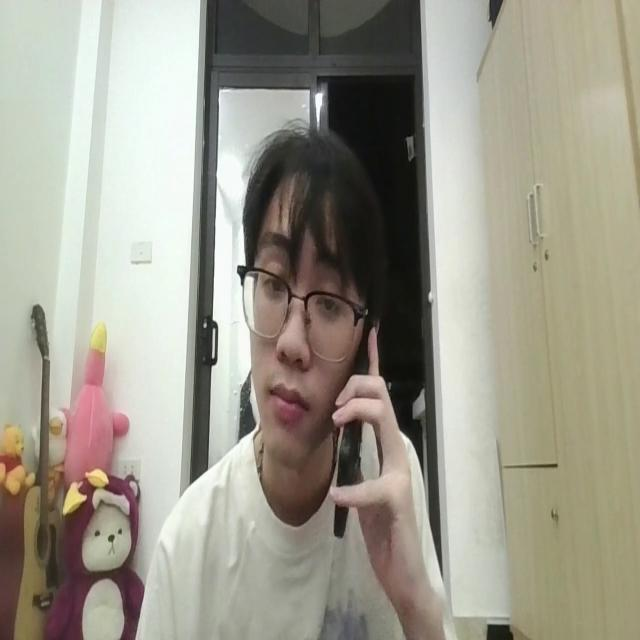phone: (325, 302, 382, 540)
student: (129, 113, 455, 640)
